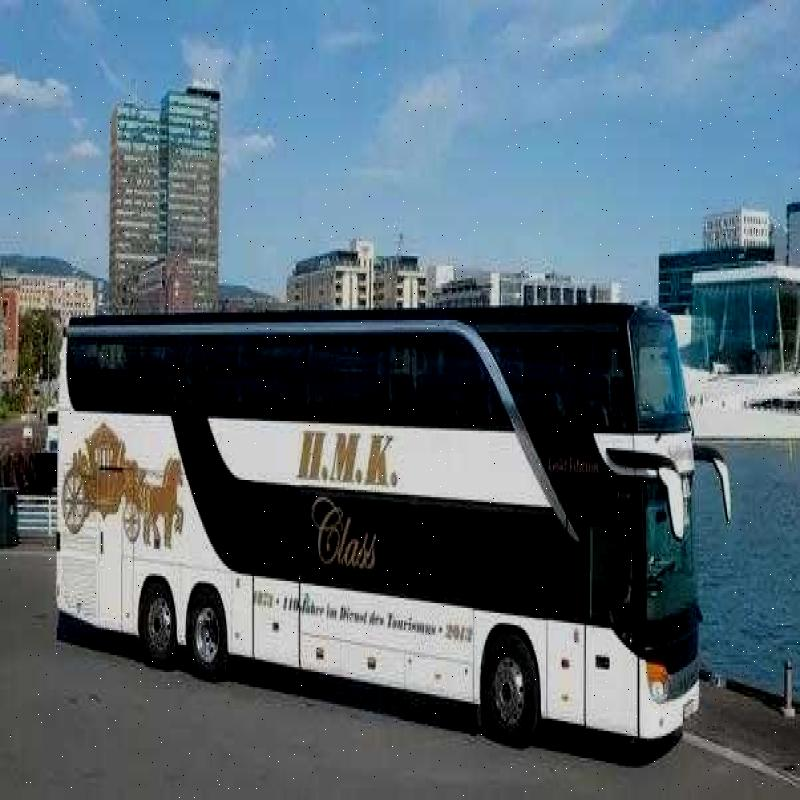bus: (50, 294, 719, 757)
